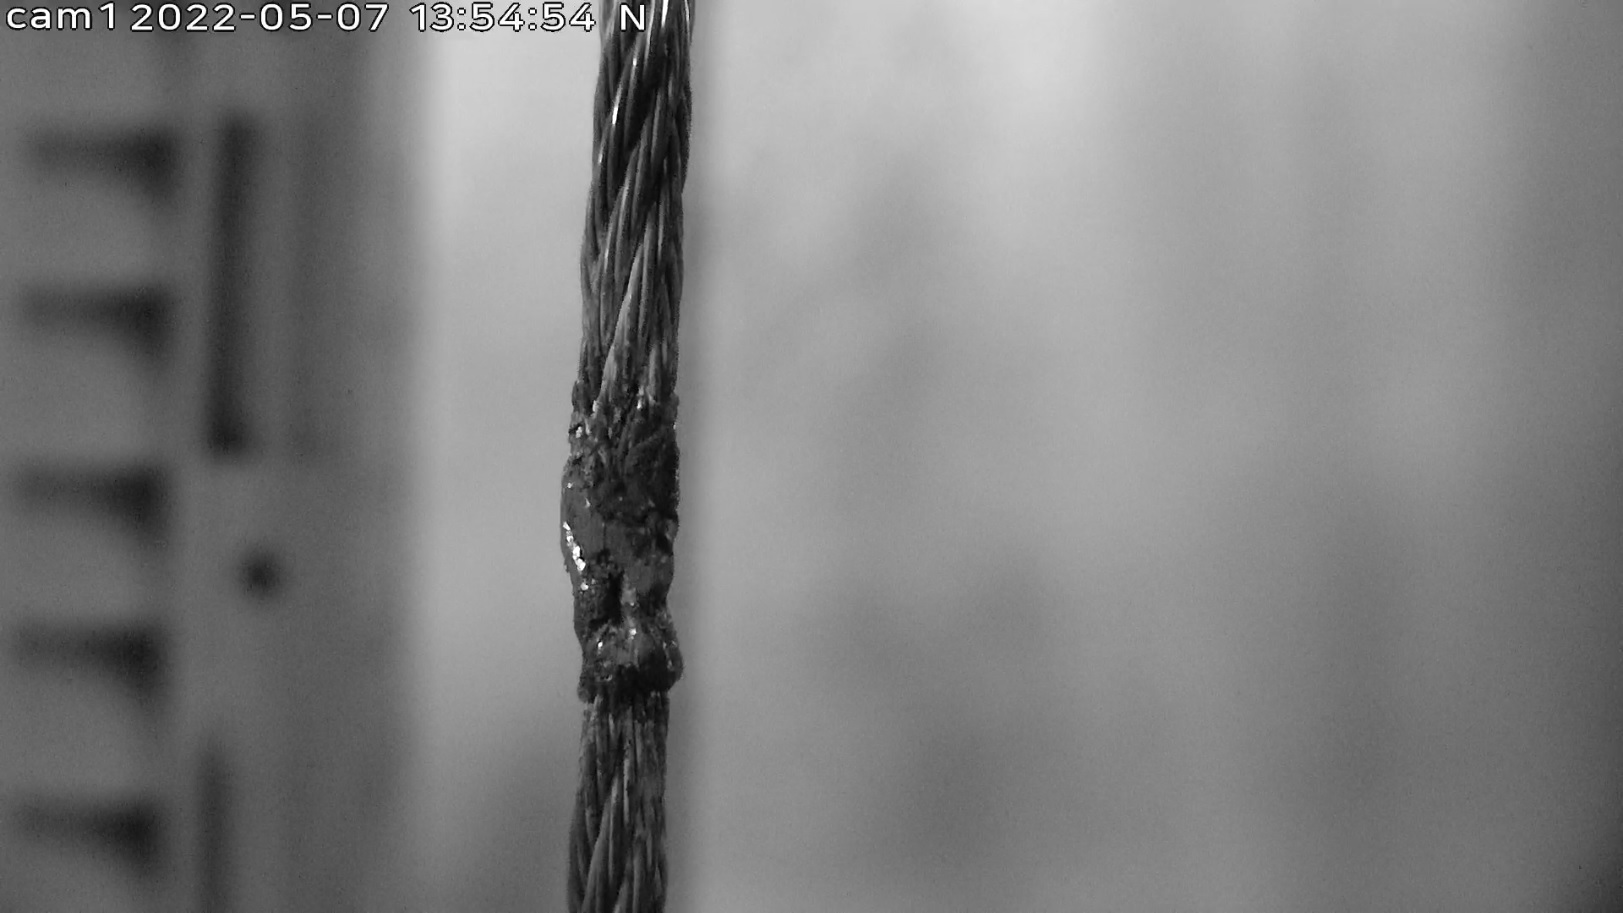spike: (551, 380, 691, 707)
